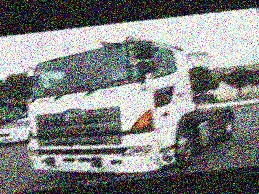car: (0, 117, 32, 148)
